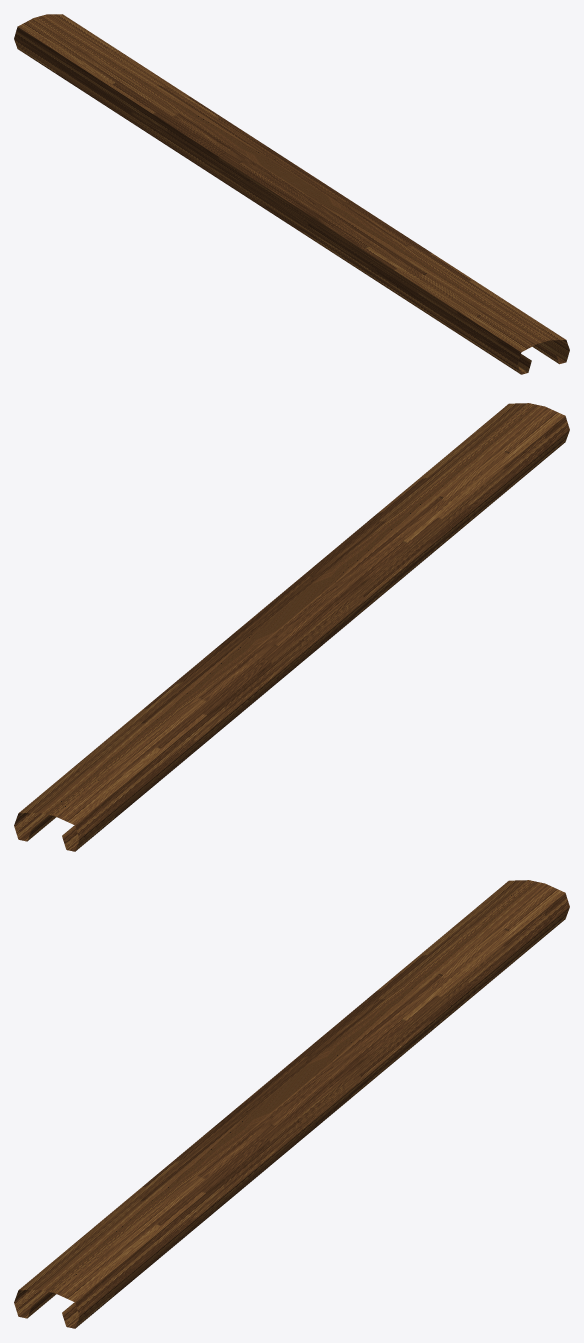
Rendered from cube.027_lev2.glb.
3 views of the same model, one above another, from view 1: azimuth 30°, elevation 25°; view 2: azimuth 150°, elevation 25°; view 3: azimuth 330°, elevation 25° (orthographic). The views are drawn at different scales.
Visible parts, largest first — view 1: cube.027_lev2; view 2: cube.027_lev2; view 3: cube.027_lev2.
Part boxes in pixels (x1,y1,x2,y2): cube.027_lev2: [14, 14, 569, 374]; cube.027_lev2: [14, 403, 569, 851]; cube.027_lev2: [14, 880, 569, 1328].
Size of the model in its own units: 0.1123 by 0.0291 by 0.9167.
Materials: 1 (1 with a texture image).
